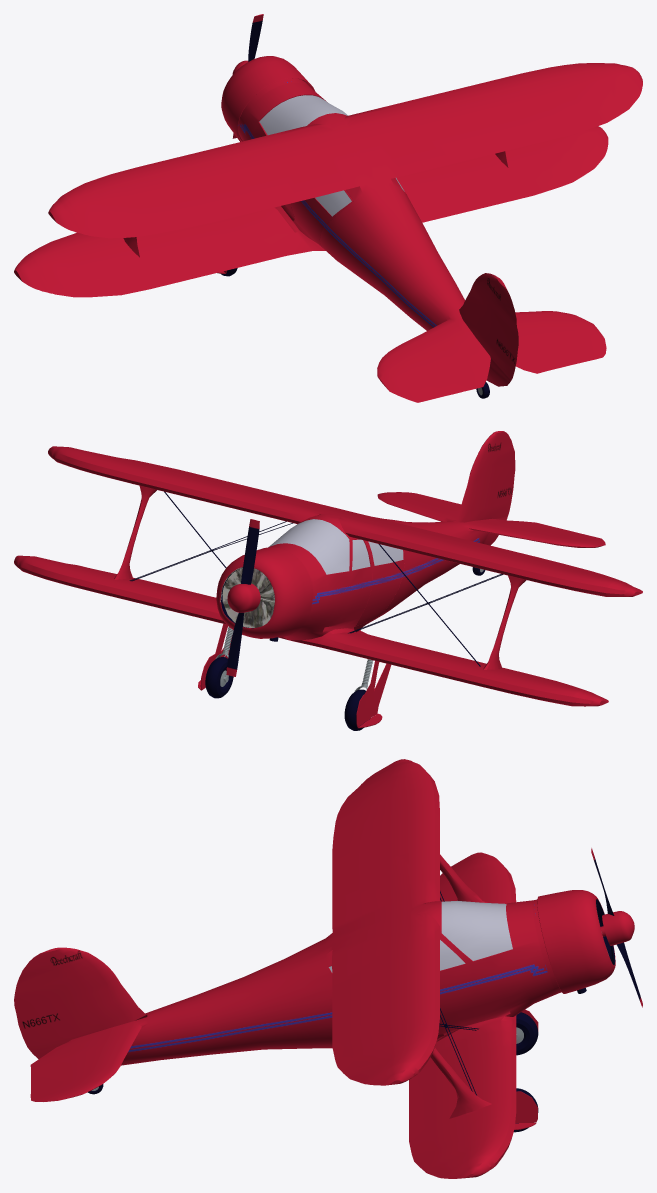
The model's file is Beech_Model-17_aircraftnoenginefromfbx.glb.
The picture shows the model from 3 angles, top to bottom: view 1: azimuth 30°, elevation 25°; view 2: azimuth 150°, elevation 25°; view 3: azimuth 270°, elevation 25°; orthographic projection. The views are drawn at different scales.
Visible parts, largest first — view 1: Beech17aircraft.1; view 2: Beech17aircraft.1; view 3: Beech17aircraft.1.
Boxes of the visible parts, <box> form: Beech17aircraft.1: <box>14,14,642,402</box>; Beech17aircraft.1: <box>14,431,642,730</box>; Beech17aircraft.1: <box>14,759,642,1178</box>.
Bounding box in the file's own units: 980 × 349 × 818.
Materials: 1 (1 with a texture image).
